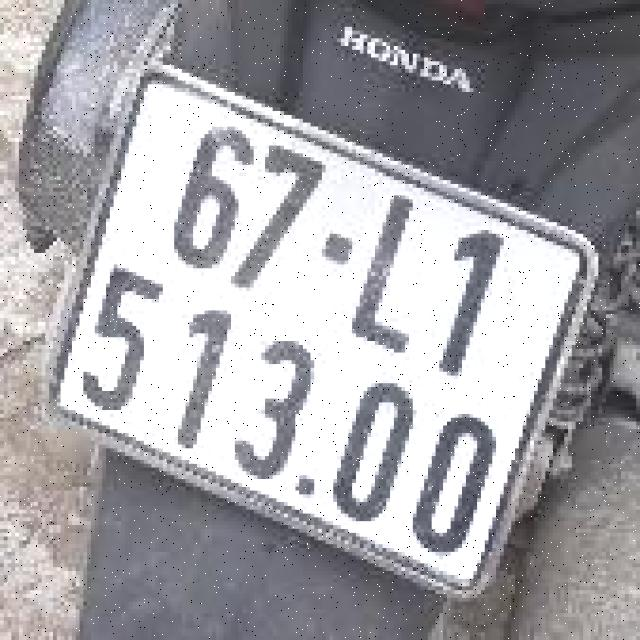0: (320, 369, 433, 535), (402, 394, 512, 564)
1: (420, 214, 520, 391), (161, 294, 247, 462)
3: (222, 323, 330, 489)
5: (67, 255, 177, 422)
6: (161, 111, 267, 285)
7: (217, 133, 338, 305)
L: (345, 184, 458, 365)
